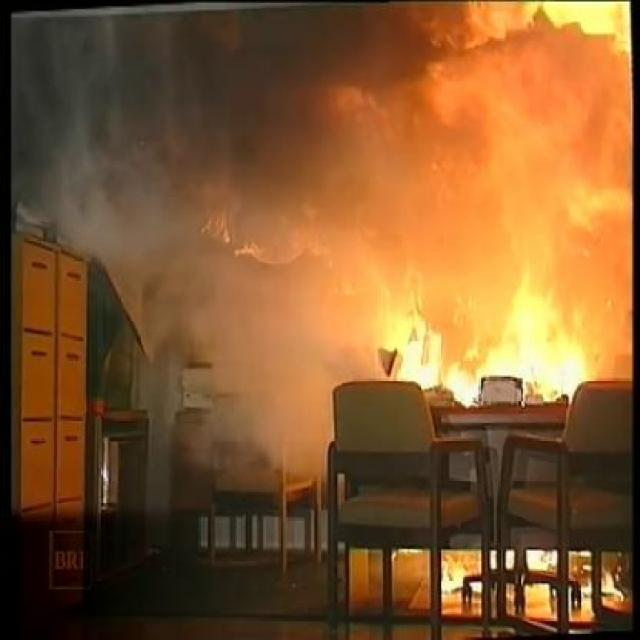fire: (350, 119, 608, 442)
smoke: (33, 33, 279, 295), (170, 244, 350, 493)
